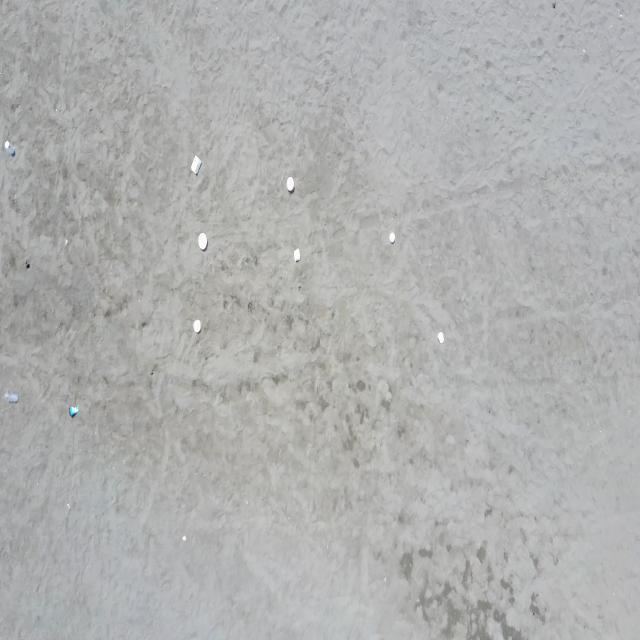take-away-containers: (191, 155, 202, 175), (198, 233, 207, 250), (286, 176, 294, 192), (193, 319, 201, 334), (294, 248, 300, 263), (390, 231, 396, 243), (438, 332, 444, 343)
takeaway-cup: (5, 141, 15, 155), (5, 392, 18, 402), (70, 406, 78, 416)
